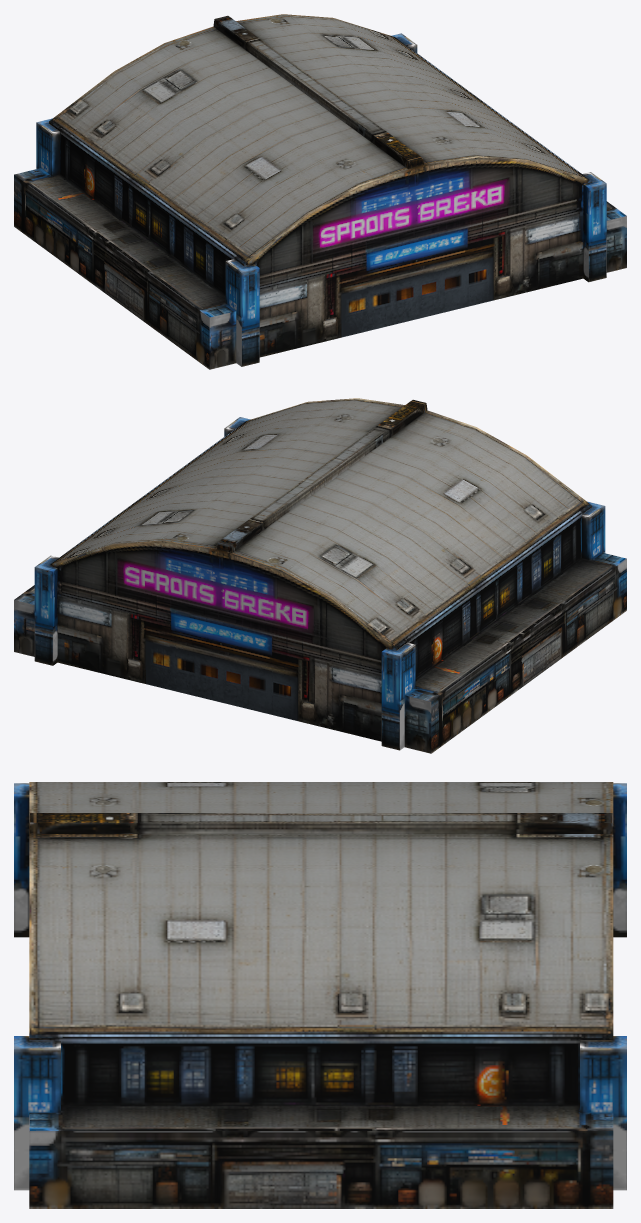
The model's file is CP_Hangar.fbx.
The picture shows the model from 3 angles, top to bottom: view 1: azimuth 30°, elevation 25°; view 2: azimuth 150°, elevation 25°; view 3: azimuth 270°, elevation 25°; orthographic projection. The views are drawn at different scales.
Visible parts, largest first — view 1: CP_Hangar; view 2: CP_Hangar; view 3: CP_Hangar.
Part boxes in pixels (x1,y1,x2,y2): CP_Hangar: [14, 14, 626, 369]; CP_Hangar: [14, 398, 626, 753]; CP_Hangar: [14, 782, 626, 1208].
Size of the model in its own units: 2716 by 989 by 2312.
